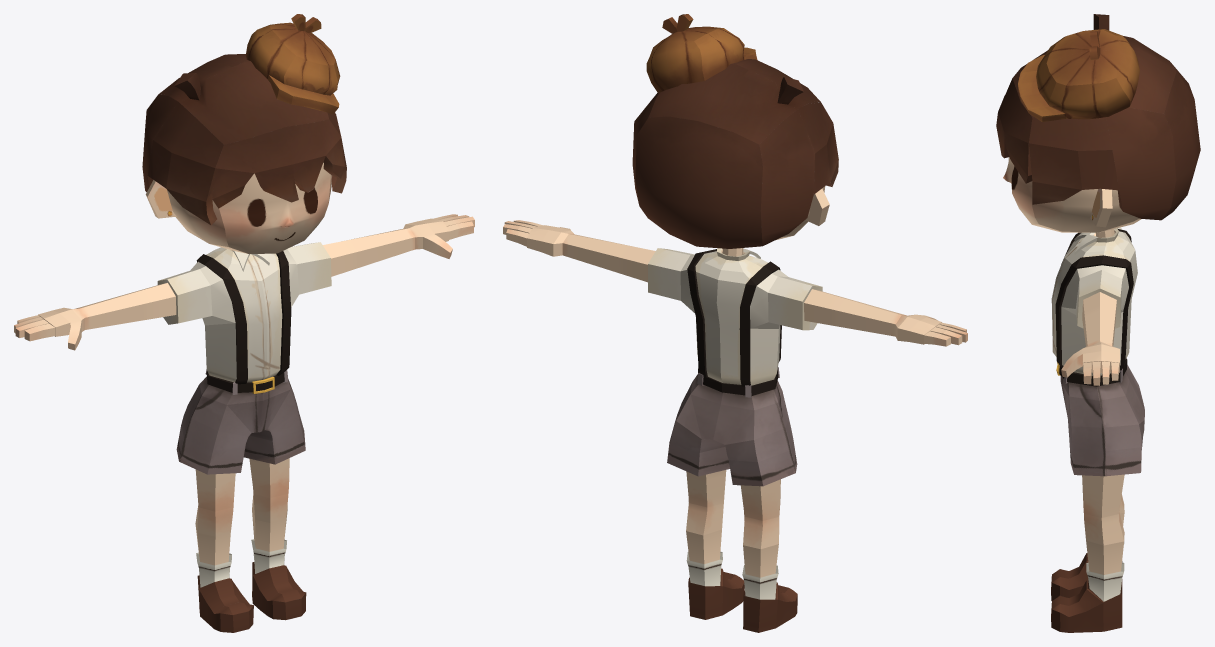
File: charlie_final1.6.obj
3 renders of one model, left to right at view 1: azimuth 30°, elevation 25°; view 2: azimuth 150°, elevation 25°; view 3: azimuth 270°, elevation 25°, orthographic. The views are drawn at different scales.
Visible parts, largest first — view 1: Body_standardSurface5SG, Hair_standardSurface4SG, Head_uv_standardSurface4SG_1, Head_uv_standardSurface4SG_2, Head_uv_standardSurface4SG; view 2: Body_standardSurface5SG, Hair_standardSurface4SG, Head_uv_standardSurface4SG_2; view 3: Body_standardSurface5SG, Hair_standardSurface4SG, Head_uv_standardSurface4SG_2, Head_uv_standardSurface4SG_1, Head_uv_standardSurface4SG.
Part boxes in pixels (x1,y1,x2,y2): Body_standardSurface5SG: (14,214,474,632); Hair_standardSurface4SG: (142,54,346,225); Head_uv_standardSurface4SG_1: (167,162,331,254); Head_uv_standardSurface4SG_2: (245,14,340,114); Head_uv_standardSurface4SG: (145,180,176,218); Body_standardSurface5SG: (503,220,967,632); Hair_standardSurface4SG: (632,59,838,248); Head_uv_standardSurface4SG_2: (646,14,757,93); Body_standardSurface5SG: (1051,227,1144,632); Hair_standardSurface4SG: (996,14,1200,220); Head_uv_standardSurface4SG_2: (1018,29,1139,121); Head_uv_standardSurface4SG_1: (1003,157,1141,232); Head_uv_standardSurface4SG: (1090,188,1112,227).
Size of the model in its own units: 15.36 by 18.68 by 5.72.
Materials: 2 (2 with a texture image).
